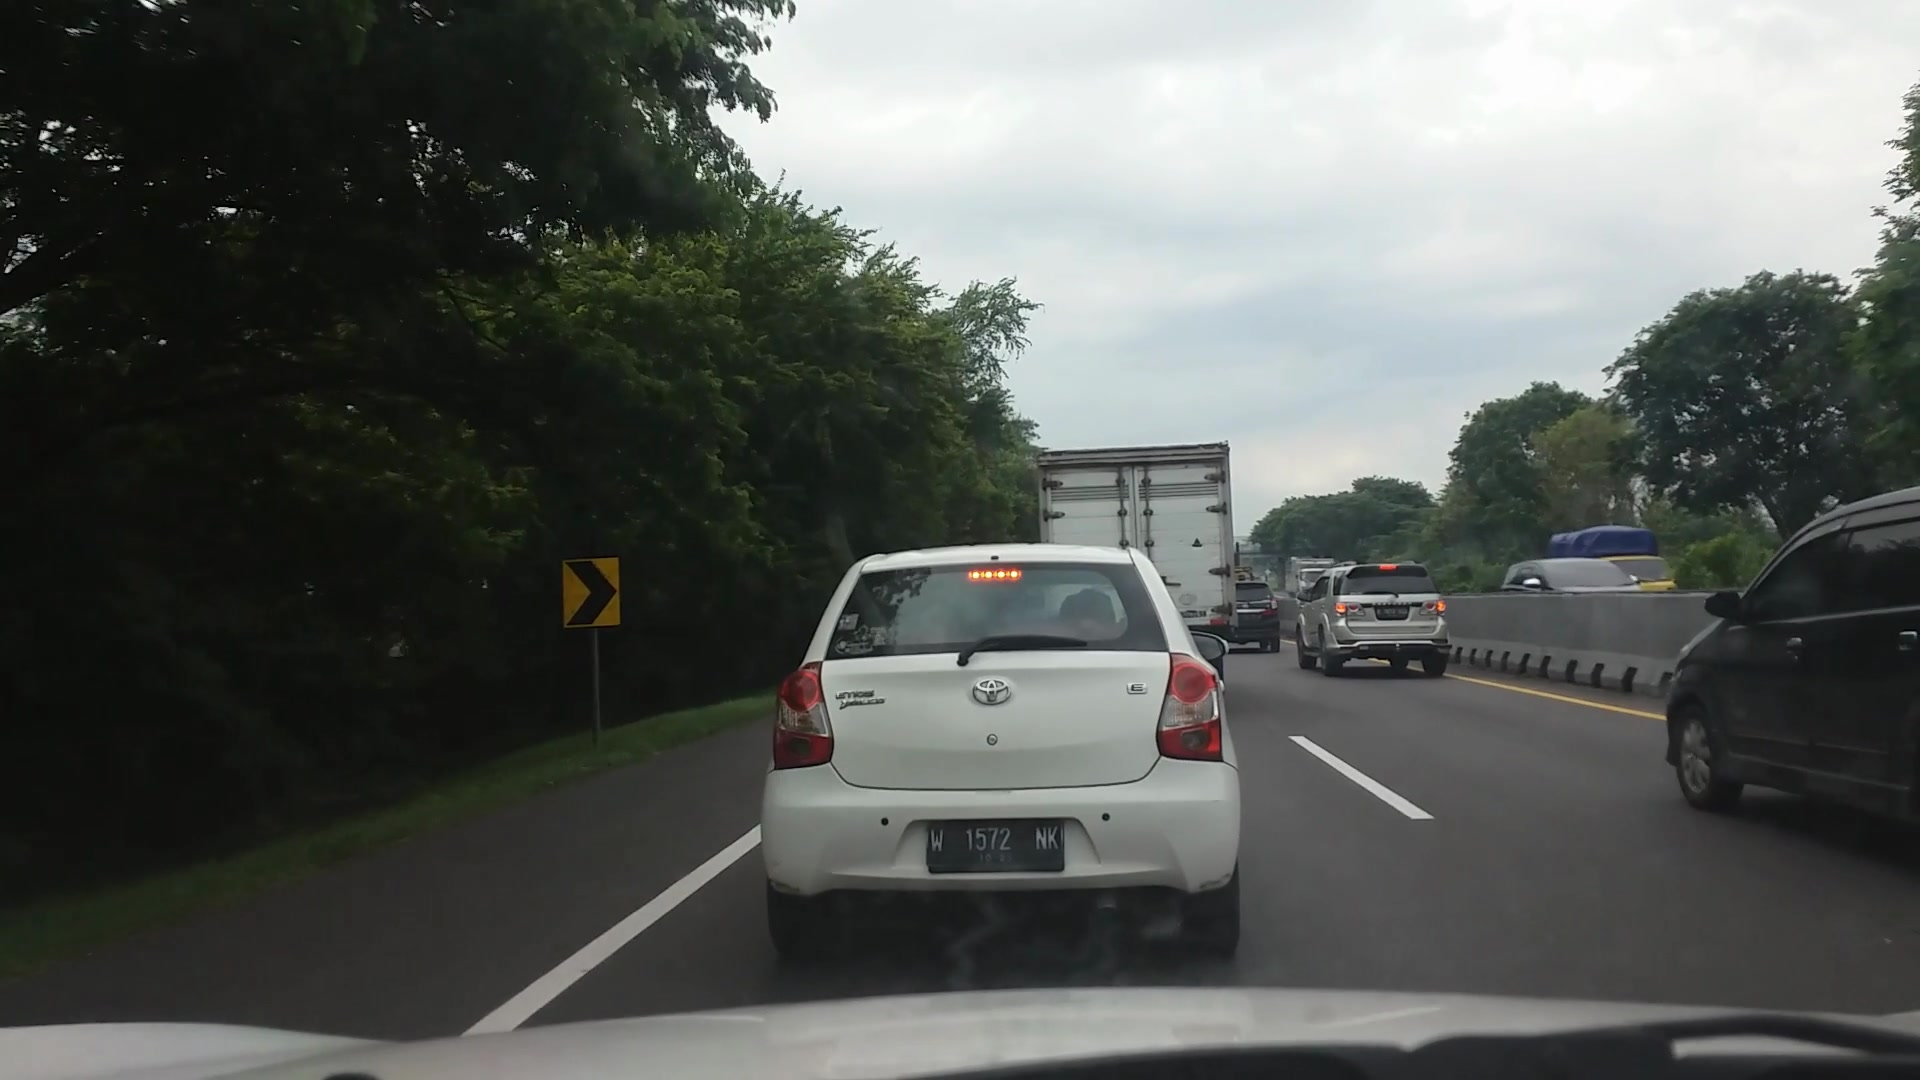plate_positive: (926, 818, 1065, 874)
